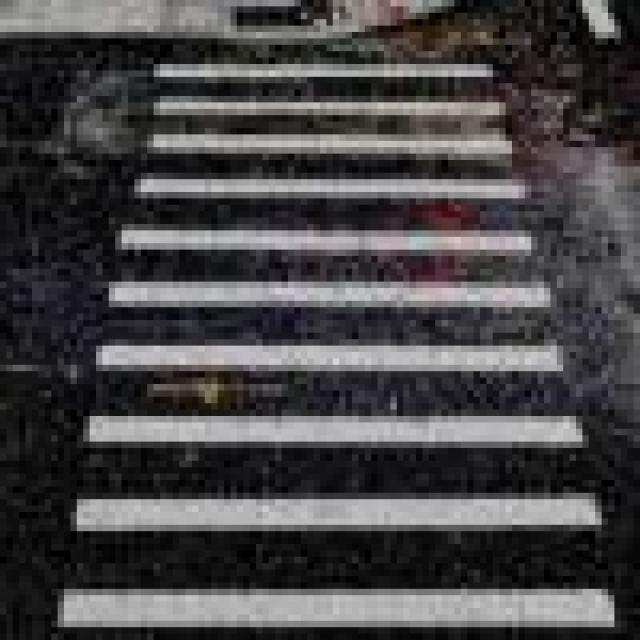zebra: (53, 52, 617, 640)
